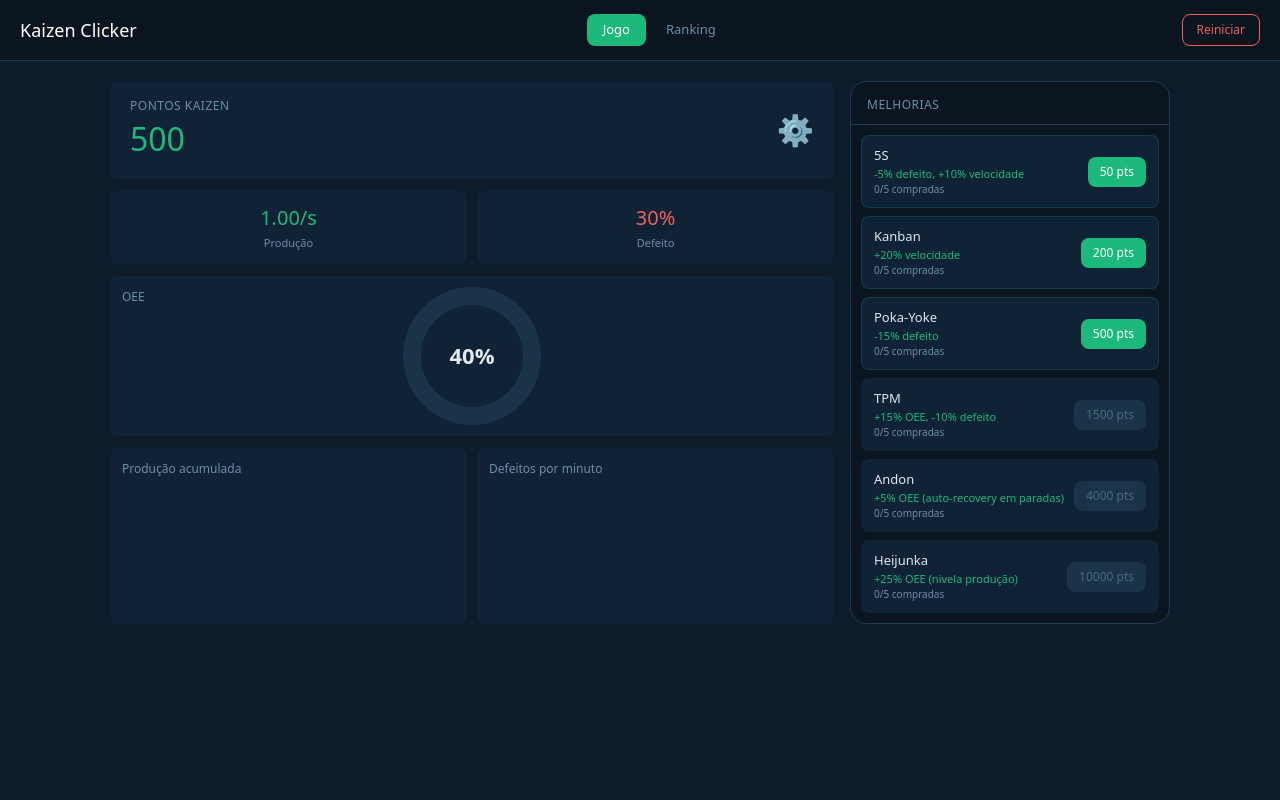
Test: App › não reinicia o jogo quando o usuário cancela no modal
This screenshot has width=1280, height=800.
Click the button "Reiniciar" at (1221, 30), box [1182, 14, 1260, 46]
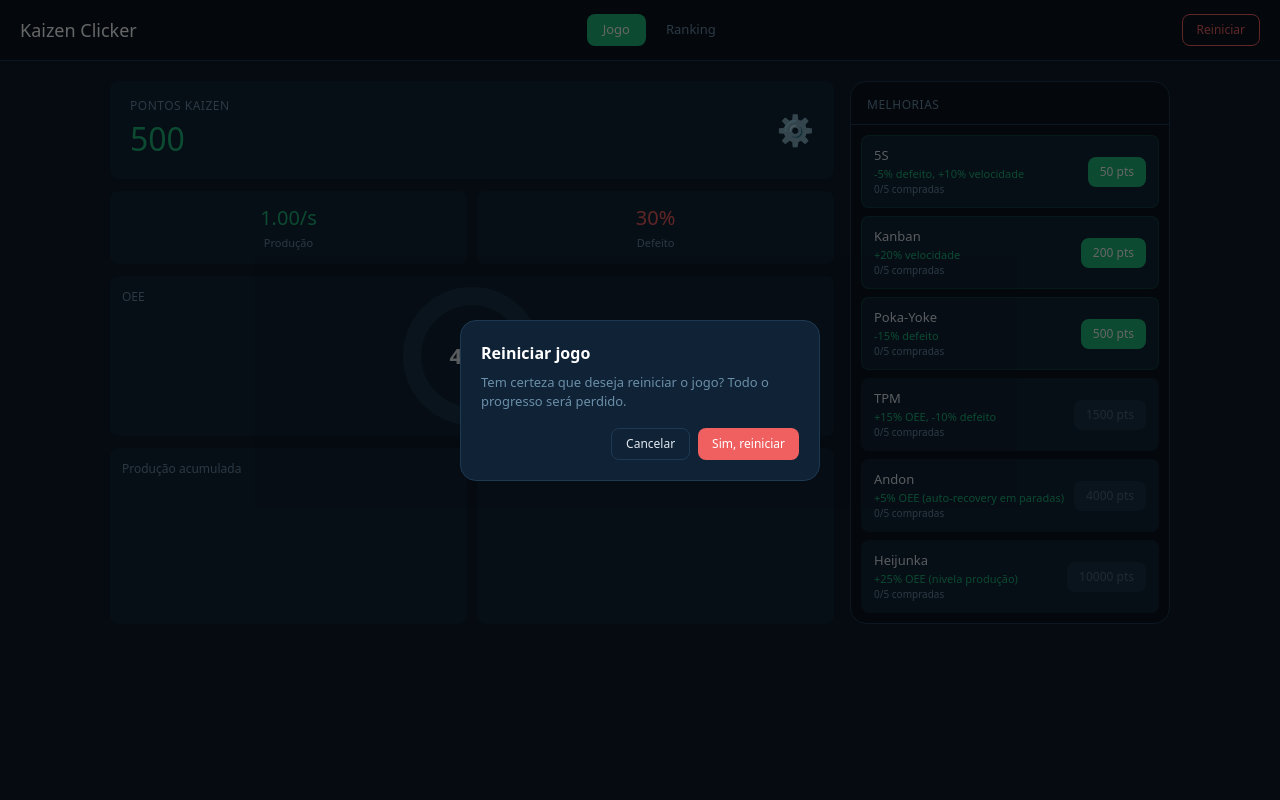
Click the button "Cancelar" at (651, 444), box [611, 428, 690, 460]
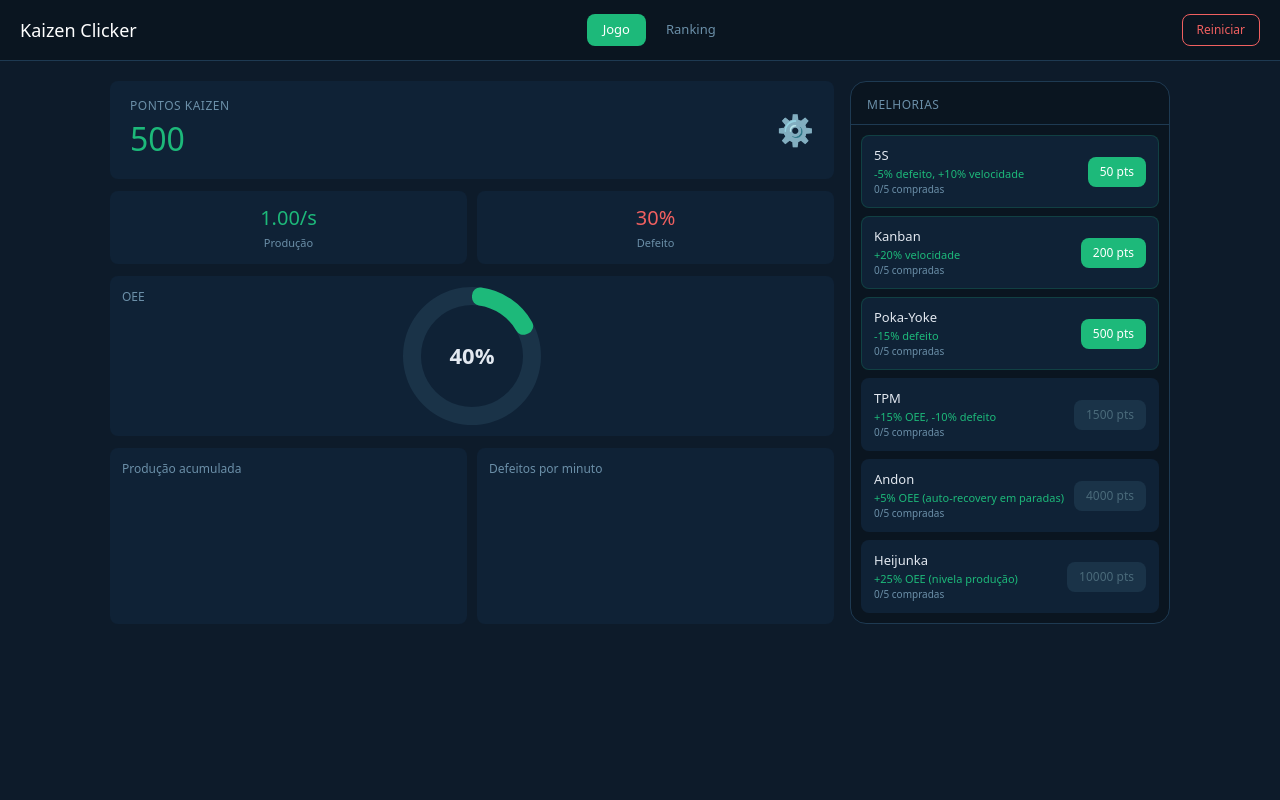
Result: the heading "Reiniciar jogo" is gone
